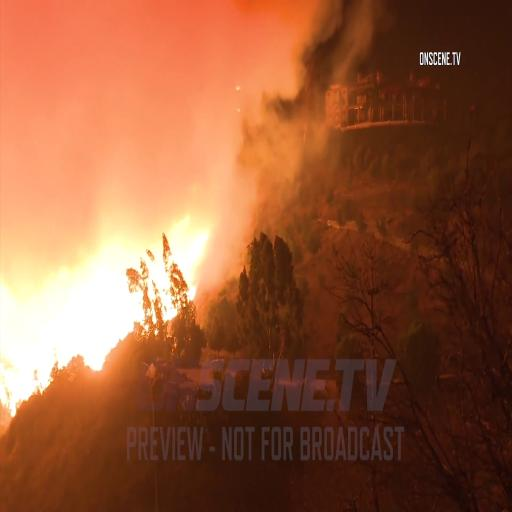fire: (0, 224, 195, 378)
smoke: (0, 0, 170, 172)
